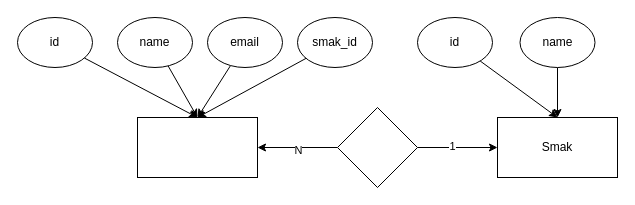
Some shapes in this 635 by 205 pixel diagram are drawn without their labels. The shapes that lost their labels are listed below. From the top down, each one's centre as x and y in pixels, then its label:
(197,147): Kund/Röst
(377,147): has
